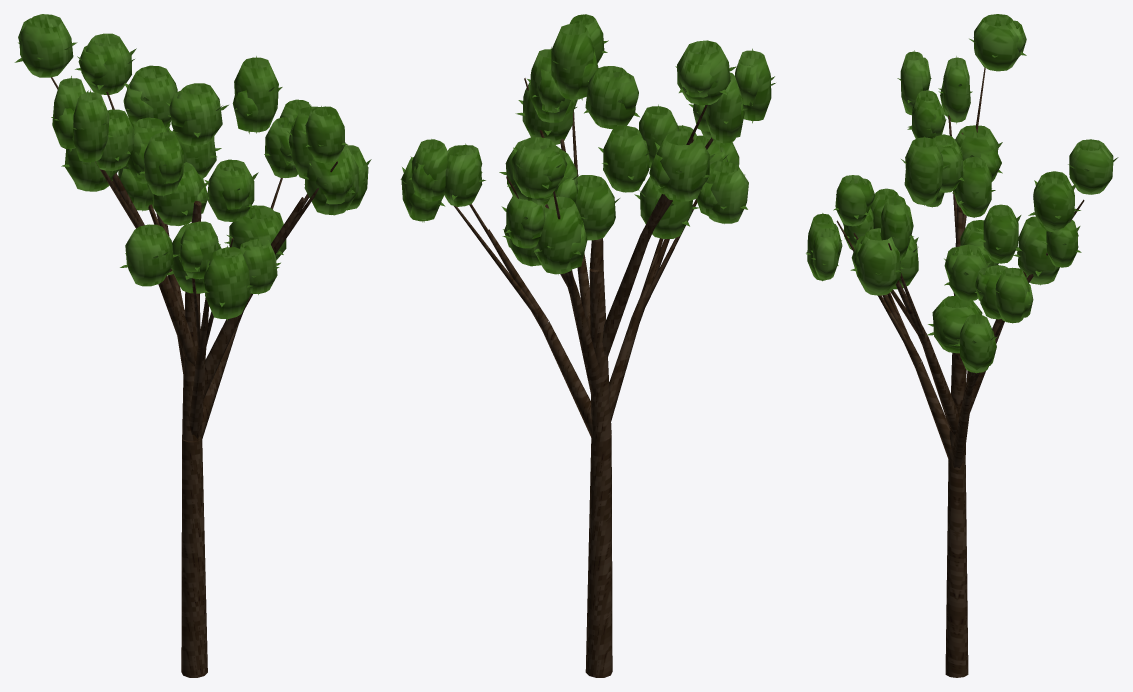
File: tree01-lod0.glb
3 renders of one model, left to right at view 1: azimuth 30°, elevation 25°; view 2: azimuth 150°, elevation 25°; view 3: azimuth 270°, elevation 25°, orthographic. The views are drawn at different scales.
Visible parts, largest first — view 1: TZ_deciduous_broadleaf_Batch_01_LOD0, TZ_deciduous_broadleaf_Batch_00_LOD0, TZ_deciduous_broadleaf_Batch_02_LOD0; view 2: TZ_deciduous_broadleaf_Batch_01_LOD0, TZ_deciduous_broadleaf_Batch_00_LOD0, TZ_deciduous_broadleaf_Batch_02_LOD0; view 3: TZ_deciduous_broadleaf_Batch_01_LOD0, TZ_deciduous_broadleaf_Batch_00_LOD0, TZ_deciduous_broadleaf_Batch_02_LOD0.
Boxes of the visible parts, x1=… form: TZ_deciduous_broadleaf_Batch_01_LOD0: x1=18, y1=14, x2=368, y2=320; TZ_deciduous_broadleaf_Batch_00_LOD0: x1=51, y1=77, x2=337, y2=677; TZ_deciduous_broadleaf_Batch_02_LOD0: x1=14, y1=42, x2=371, y2=306; TZ_deciduous_broadleaf_Batch_01_LOD0: x1=401, y1=14, x2=771, y2=274; TZ_deciduous_broadleaf_Batch_00_LOD0: x1=454, y1=78, x2=713, y2=677; TZ_deciduous_broadleaf_Batch_02_LOD0: x1=400, y1=40, x2=775, y2=254; TZ_deciduous_broadleaf_Batch_01_LOD0: x1=807, y1=14, x2=1113, y2=373; TZ_deciduous_broadleaf_Batch_00_LOD0: x1=836, y1=67, x2=1084, y2=677; TZ_deciduous_broadleaf_Batch_02_LOD0: x1=806, y1=38, x2=1118, y2=346.
Bounding box in the file's own units: 4.87 × 9.2 × 4.33.
3 materials, 3 textured.
